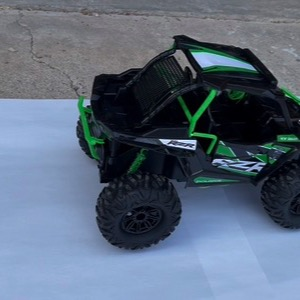polaris: (74, 33, 300, 251)
